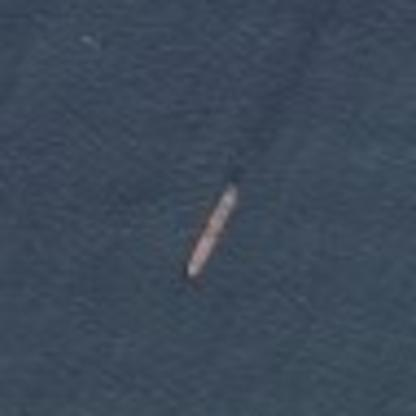ship: (178, 179, 243, 289)
